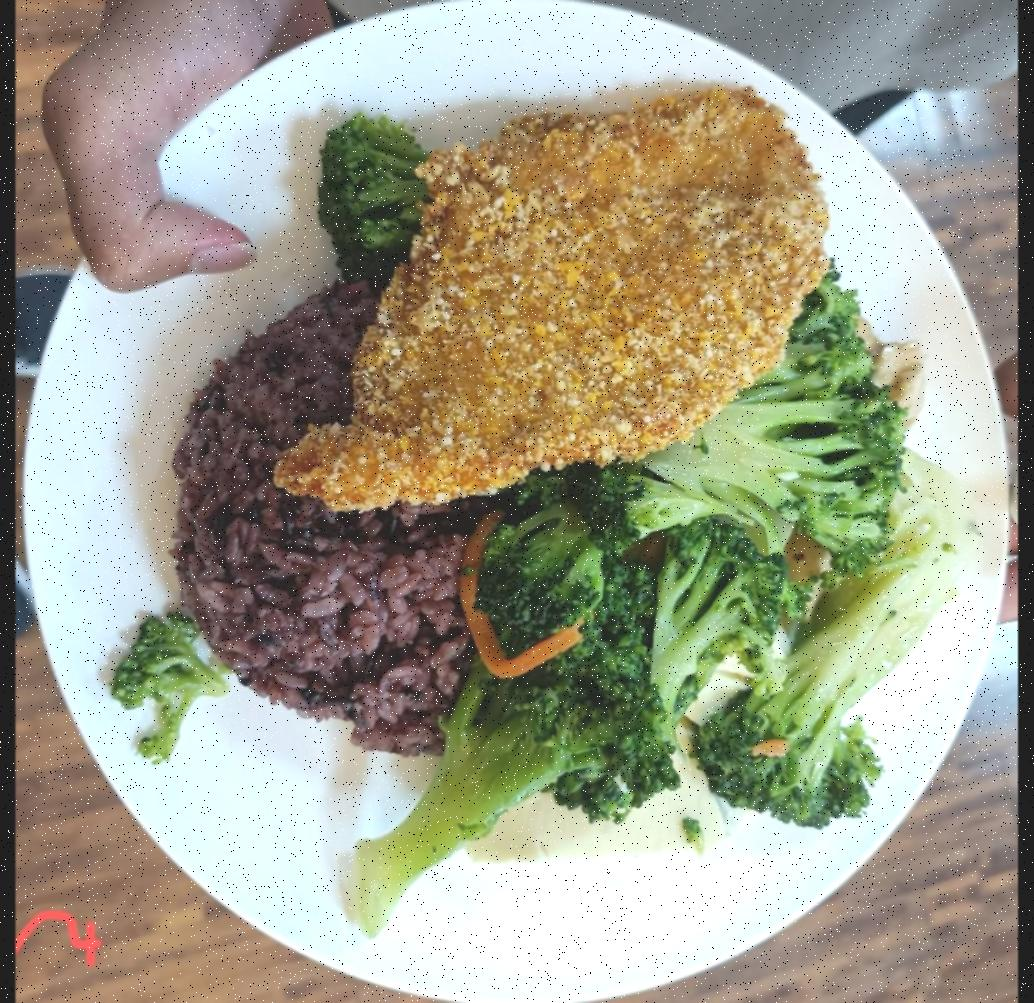chicken steak: (310, 76, 834, 488)
plate: (33, 0, 1008, 1003)
purple rice: (178, 293, 461, 730)
side dish: (497, 380, 960, 847)
